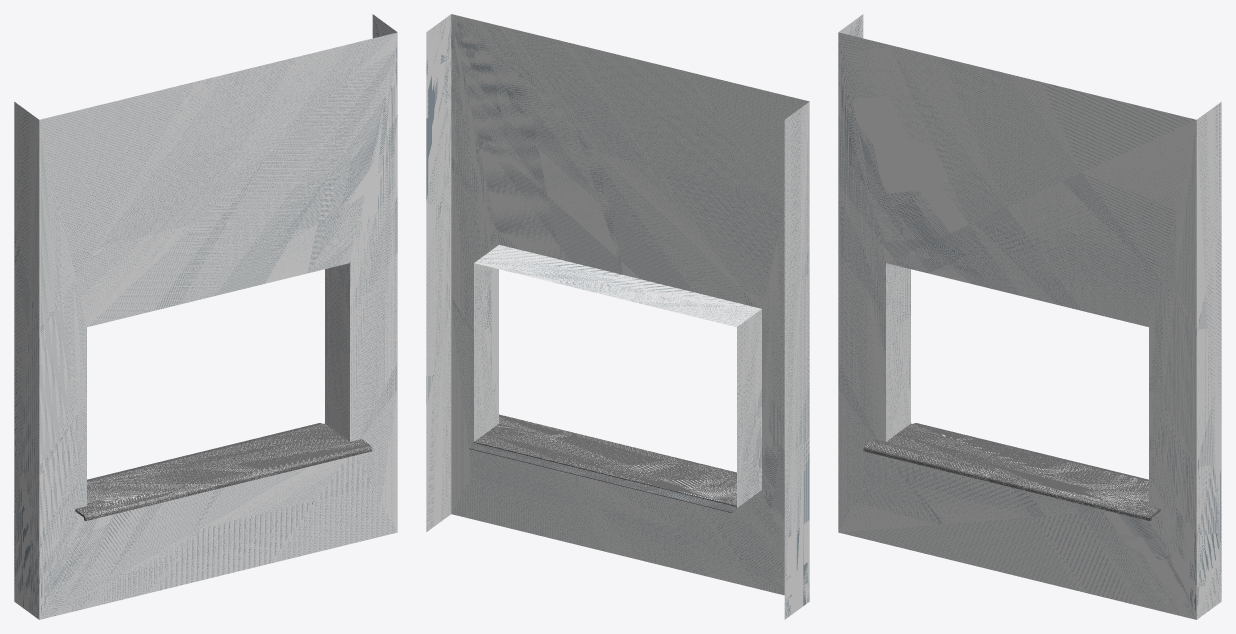
File: WindowBlock_os_[300x400]_220x143x[080].dae
3 renders of one model, left to right at view 1: azimuth 30°, elevation 25°; view 2: azimuth 150°, elevation 25°; view 3: azimuth 330°, elevation 25°, orthographic.
Visible parts, largest first — view 1: group_1 (×2), group_2 (×2); view 2: group_1 (×2), group_2 (×2); view 3: group_1 (×2), group_2 (×2).
Boxes of the visible parts, <box> form: group_1 (×2): <box>14,14,397,619</box>; group_2 (×2): <box>75,423,372,521</box>; group_1 (×2): <box>426,14,809,619</box>; group_2 (×2): <box>469,414,736,512</box>; group_1 (×2): <box>838,14,1221,619</box>; group_2 (×2): <box>863,423,1160,520</box>.
Size of the model in its own units: 118 by 23.03 by 157.
